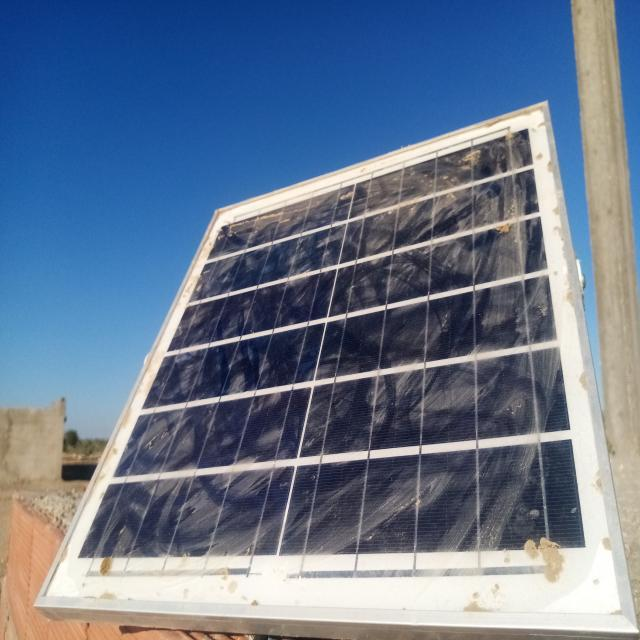faulty: (37, 101, 634, 626)
